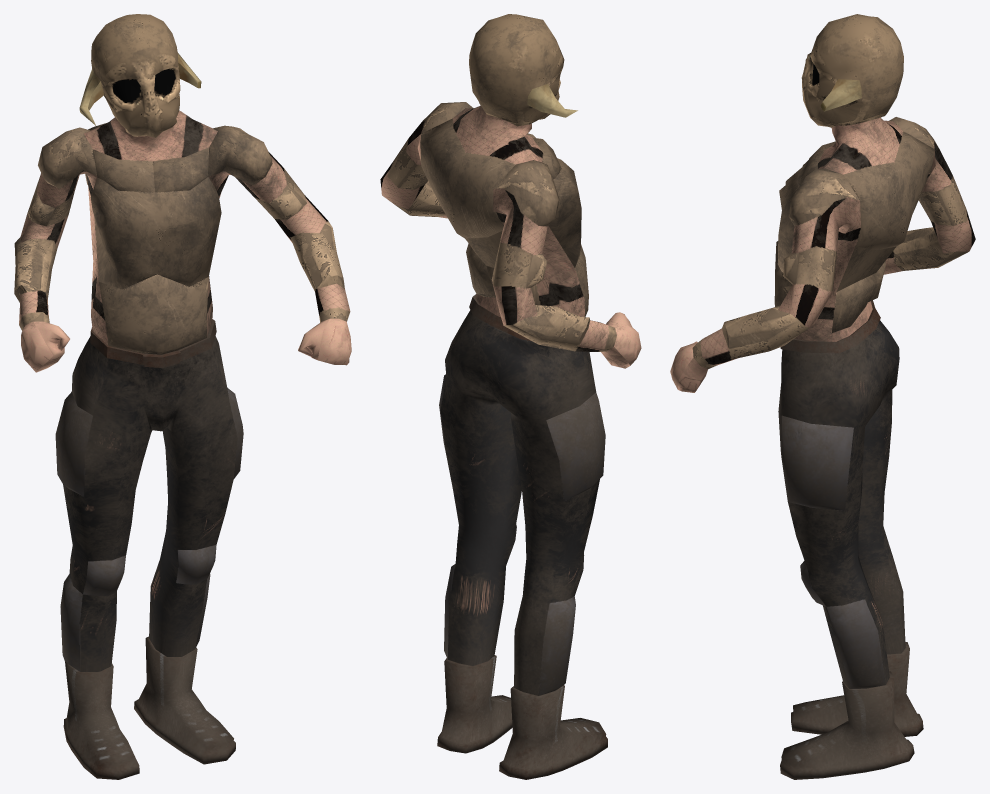
Rendered from Anim_ataque_d2_npc1.0013.obj.
3 renders of one model, left to right at view 1: azimuth 30°, elevation 25°; view 2: azimuth 150°, elevation 25°; view 3: azimuth 270°, elevation 25°, orthographic.
Parts seen in each view (by area): view 1: NPC2; view 2: NPC2; view 3: NPC2.
Boxes of the visible parts, left/top/right/bottom form: NPC2: left=14, top=14, right=351, bottom=779; NPC2: left=380, top=14, right=641, bottom=779; NPC2: left=670, top=14, right=975, bottom=779.
Size of the model in its own units: 3.86 by 9.62 by 3.66.
